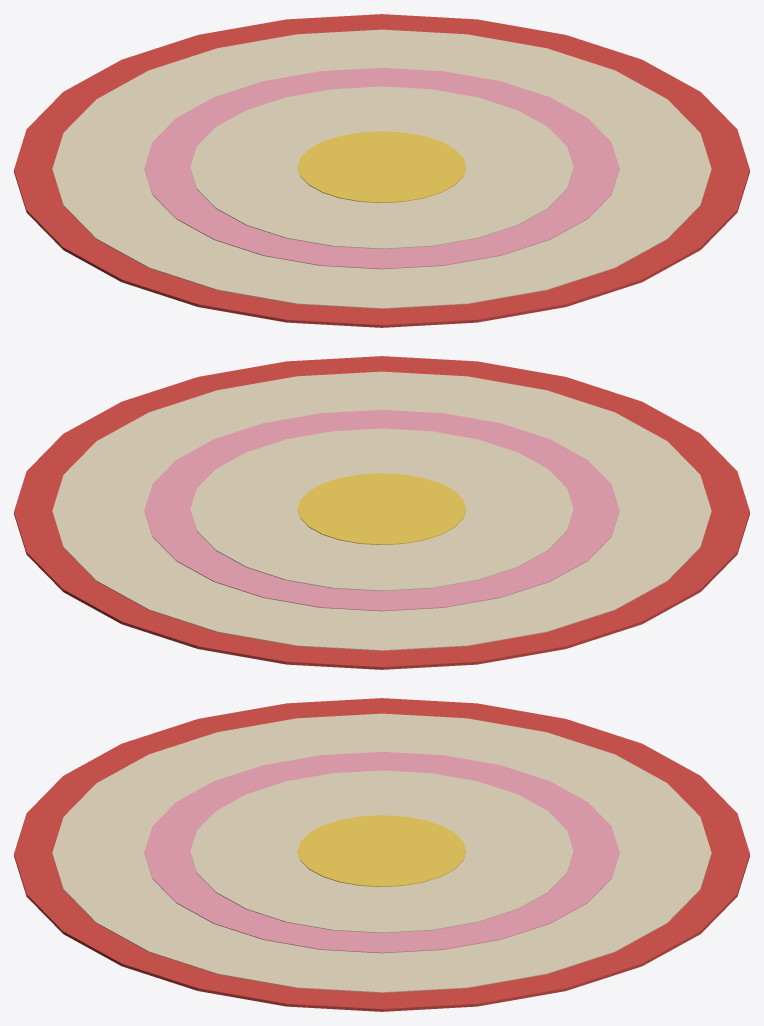
File: rug_round.glb
The picture shows the model from 3 angles, top to bottom: view 1: azimuth 30°, elevation 25°; view 2: azimuth 150°, elevation 25°; view 3: azimuth 270°, elevation 25°; orthographic projection.
Parts seen in each view (by area): view 1: rug_round; view 2: rug_round; view 3: rug_round.
Boxes of the visible parts, <box> form: rug_round: <box>14,14,749,327</box>; rug_round: <box>14,356,749,669</box>; rug_round: <box>14,698,749,1011</box>.
Bounding box in the file's own units: 1.92 × 0.016 × 1.92.
Materials: 1 (1 with a texture image).
